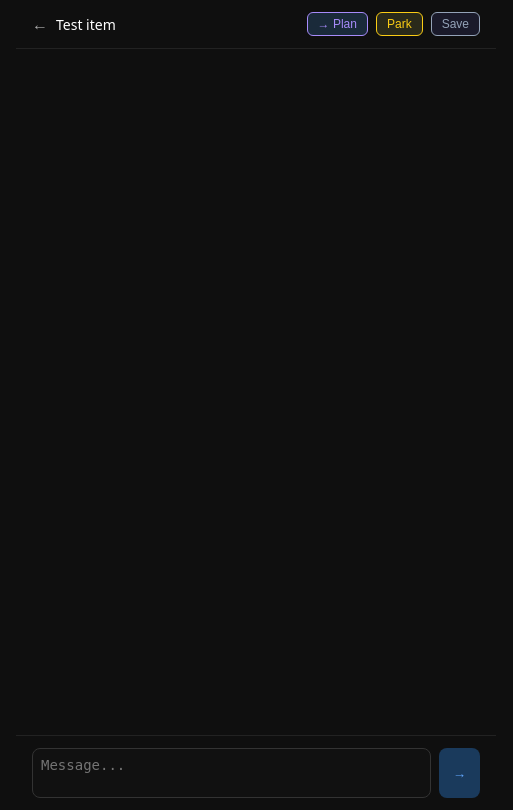
/chat/[id] › shows error message when chat send fails
The width and height of the screenshot is (513, 810).
Type "hello" into the text box with placeholder "Message...". click: (231, 773)
box: [32,748,431,798]
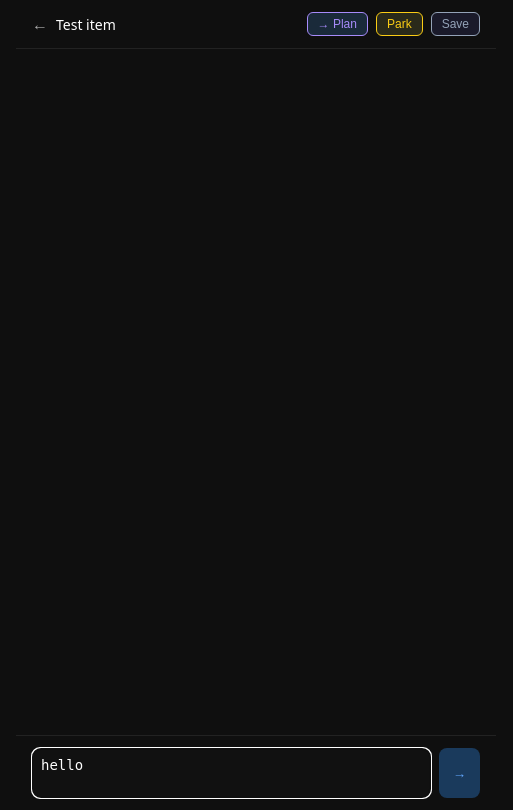
Press Enter
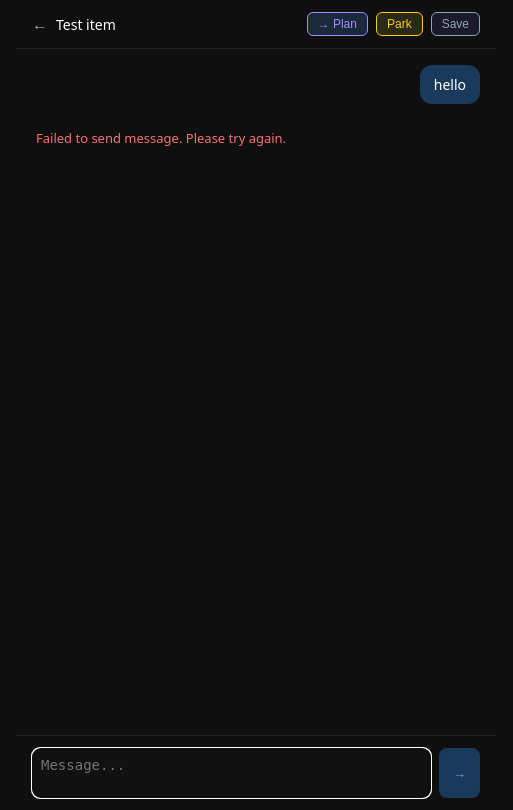
Check: the message "Failed to send message. Please try again." is shown, box [36,129,286,147]
